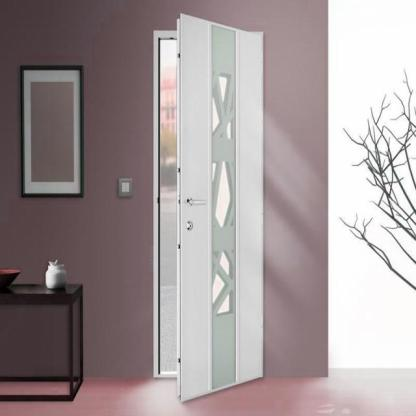door: (148, 9, 268, 407)
